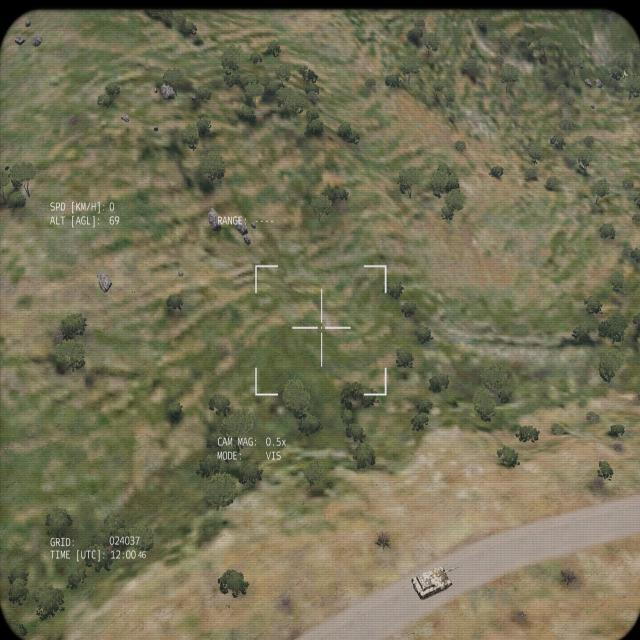tank: (411, 562, 459, 600)
